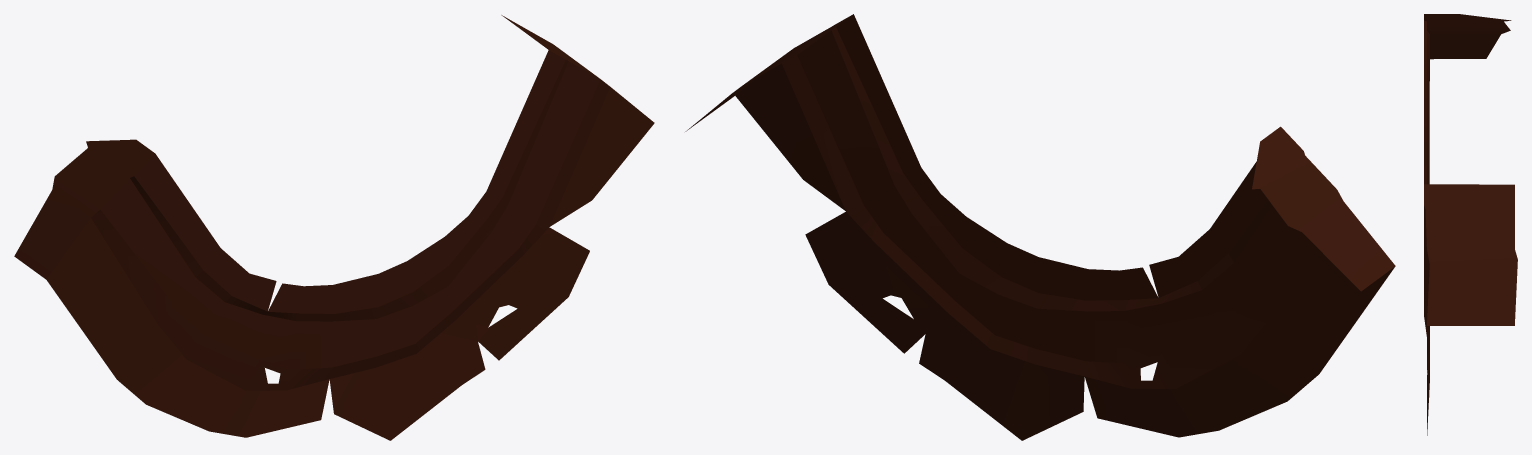
File: Flag_GothicArch.obj
3 renders of one model, left to right at view 1: azimuth 30°, elevation 25°; view 2: azimuth 150°, elevation 25°; view 3: azimuth 270°, elevation 25°, orthographic. The views are drawn at different scales.
Parts seen in each view (by area): view 1: Flag_GothicArch_Cylinder.001; view 2: Flag_GothicArch_Cylinder.001; view 3: Flag_GothicArch_Cylinder.001.
Boxes of the visible parts, x1,y1,x2,y2 form: Flag_GothicArch_Cylinder.001: (14,15,654,440); Flag_GothicArch_Cylinder.001: (685,14,1395,440); Flag_GothicArch_Cylinder.001: (1424,14,1517,435).
Bounding box in the file's own units: 2.19 × 1.22 × 0.316.
